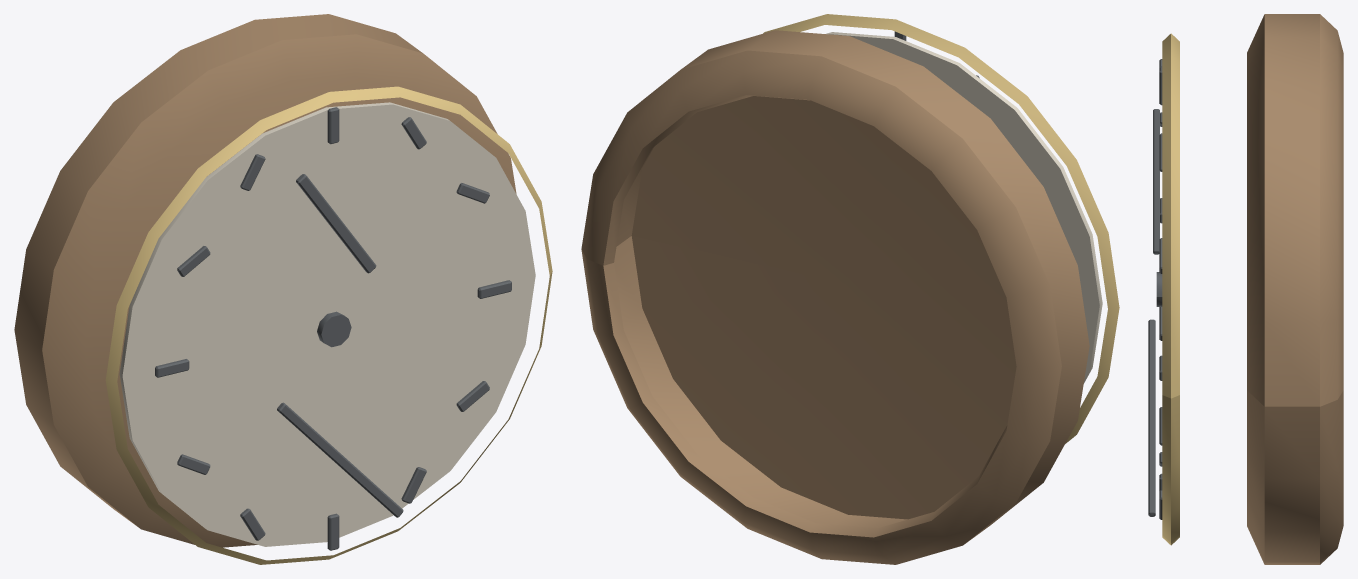
The model's file is bar-pub-and-brewery-taproom-pub-wall-clock-d49d21d6__18420.glb.
3 views of the same model, side by side, from view 1: azimuth 30°, elevation 25°; view 2: azimuth 150°, elevation 25°; view 3: azimuth 270°, elevation 25° (orthographic).
Parts seen in each view (by area): view 1: pub-wall-clock; view 2: pub-wall-clock; view 3: pub-wall-clock.
Part boxes in pixels (bbox=[...]): pub-wall-clock: bbox=[14, 14, 552, 564]; pub-wall-clock: bbox=[581, 14, 1119, 564]; pub-wall-clock: bbox=[1148, 14, 1343, 564].
Size of the model in its own units: 0.38 by 0.38 by 0.1335.
